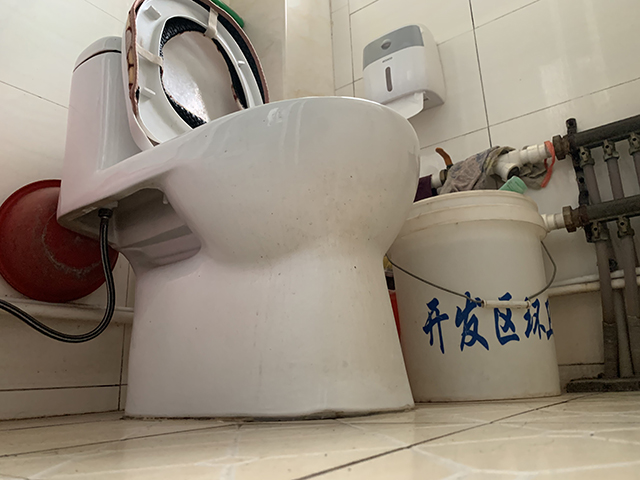closestool: (53, 1, 424, 424)
